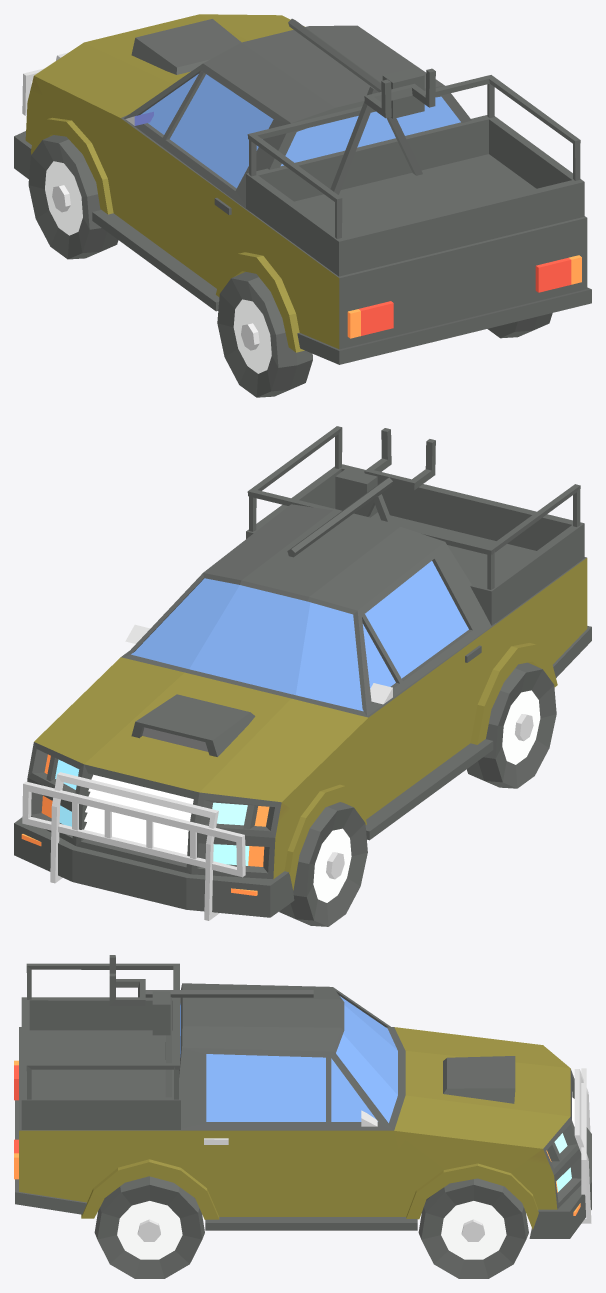
Rendered from transport_purpose.008.glb.
The picture shows the model from 3 angles, top to bottom: view 1: azimuth 30°, elevation 25°; view 2: azimuth 150°, elevation 25°; view 3: azimuth 270°, elevation 25°; orthographic projection. The views are drawn at different scales.
Visible parts, largest first — view 1: transport_purpose.008(Clone); view 2: transport_purpose.008(Clone); view 3: transport_purpose.008(Clone).
Boxes of the visible parts, x1=… form: transport_purpose.008(Clone): x1=14, y1=14, x2=591, y2=397; transport_purpose.008(Clone): x1=14, y1=426, x2=591, y2=926; transport_purpose.008(Clone): x1=14, y1=955, x2=591, y2=1278.
Size of the model in its own units: 1.76 by 1.81 by 3.68.
1 material, 1 textured.
